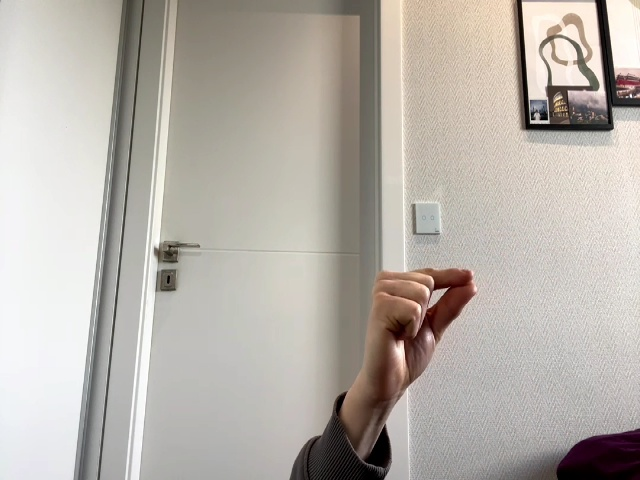P: (367, 266, 477, 393)
